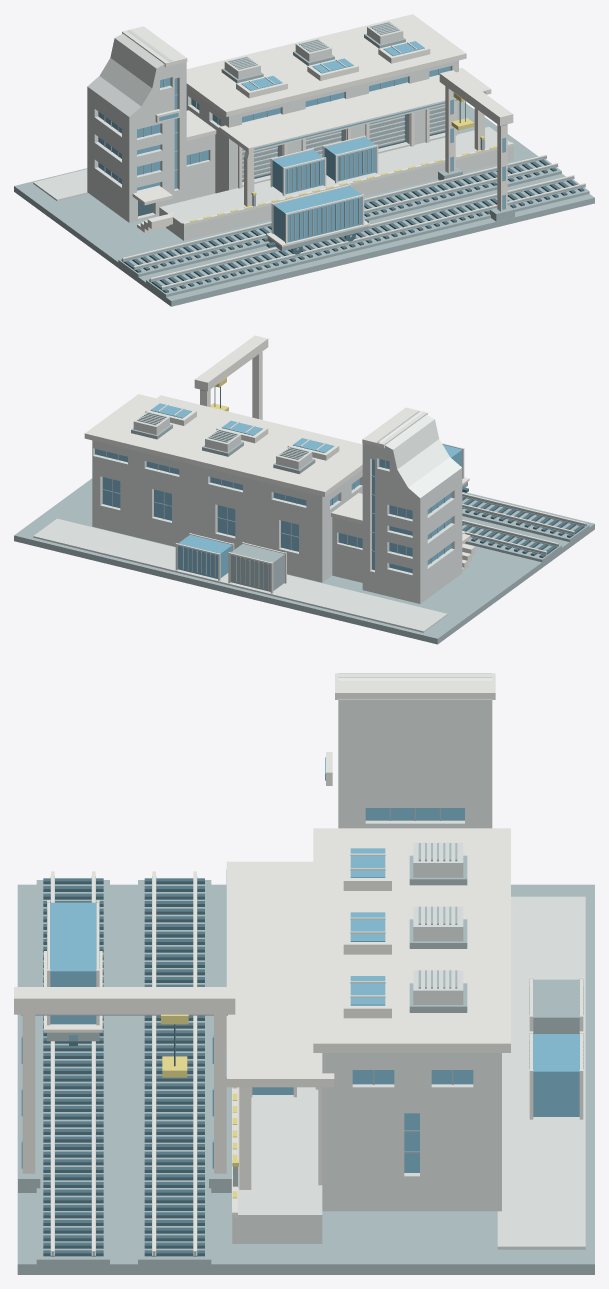
The model's file is 06_freight_station.glb.
The picture shows the model from 3 angles, top to bottom: view 1: azimuth 30°, elevation 25°; view 2: azimuth 150°, elevation 25°; view 3: azimuth 270°, elevation 25°; orthographic projection. The views are drawn at different scales.
Visible parts, largest first — view 1: station_ceramic, station_edge, station_metal, tracks_metal, tracks_recess, cargo_glass, tracks_edge, station_glass, wagon_glass, gantry_edge, roof_equipment_edge, roof_equipment_ceramic (+9 smaller); view 2: station_ceramic, station_metal, station_edge, station_glass, tracks_metal, gantry_edge, cargo_metal, cargo_glass, roof_equipment_ceramic, tracks_recess, roof_equipment_metal, roof_equipment_edge (+3 smaller); view 3: station_ceramic, station_edge, station_metal, tracks_recess, tracks_metal, gantry_edge, roof_equipment_ceramic, tracks_edge, wagon_glass, roof_equipment_edge, cargo_glass, station_glass (+7 smaller).
Boxes of the visible parts, x1,y1,x2,y2 form: station_ceramic: (33, 30, 513, 240); station_edge: (122, 14, 513, 232); station_metal: (14, 69, 594, 306); tracks_metal: (118, 156, 589, 297); tracks_recess: (121, 159, 584, 292); cargo_glass: (272, 137, 376, 194); tracks_edge: (122, 154, 585, 287); station_glass: (98, 66, 485, 190); wagon_glass: (273, 186, 362, 242); gantry_edge: (439, 70, 513, 211); roof_equipment_edge: (236, 39, 430, 98); roof_equipment_ceramic: (224, 21, 403, 79); station_ceramic: (33, 411, 465, 632); station_metal: (14, 451, 594, 644); station_edge: (84, 394, 475, 571); station_glass: (95, 449, 451, 573); tracks_metal: (462, 494, 589, 562); gantry_edge: (194, 335, 268, 419); cargo_metal: (182, 544, 284, 591); cargo_glass: (177, 535, 232, 578); roof_equipment_ceramic: (133, 411, 312, 469); tracks_recess: (462, 497, 586, 557); roof_equipment_metal: (131, 412, 315, 474); roof_equipment_edge: (145, 401, 339, 460); station_ceramic: (232, 673, 585, 1249); station_edge: (226, 673, 510, 1217); station_metal: (17, 808, 594, 1274); tracks_recess: (43, 878, 204, 1256); tracks_metal: (36, 876, 211, 1264); gantry_edge: (14, 987, 235, 1173); roof_equipment_ceramic: (413, 842, 463, 1004); tracks_edge: (51, 871, 196, 1252); wagon_glass: (50, 902, 96, 1024); roof_equipment_edge: (343, 846, 391, 1018); cargo_glass: (252, 1034, 579, 1116); station_glass: (226, 757, 473, 1172).
Size of the model in its own units: 14 by 5.08 by 9.05.
